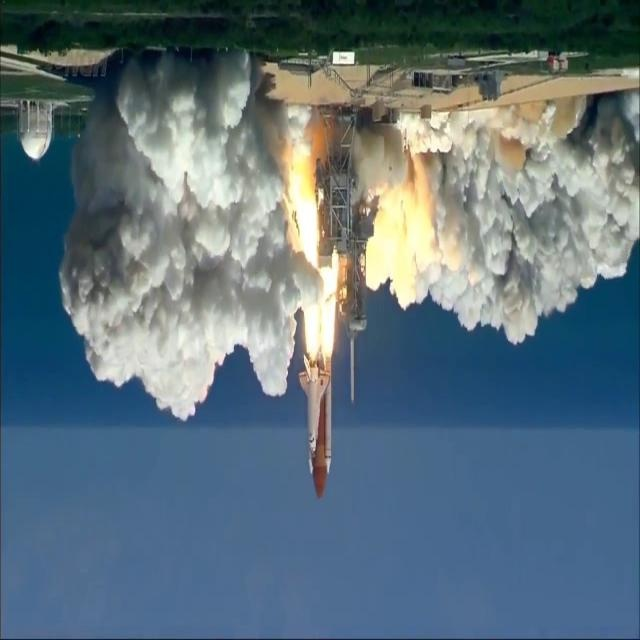medium_debris: (292, 141, 336, 360)
rocket: (292, 348, 329, 462)
